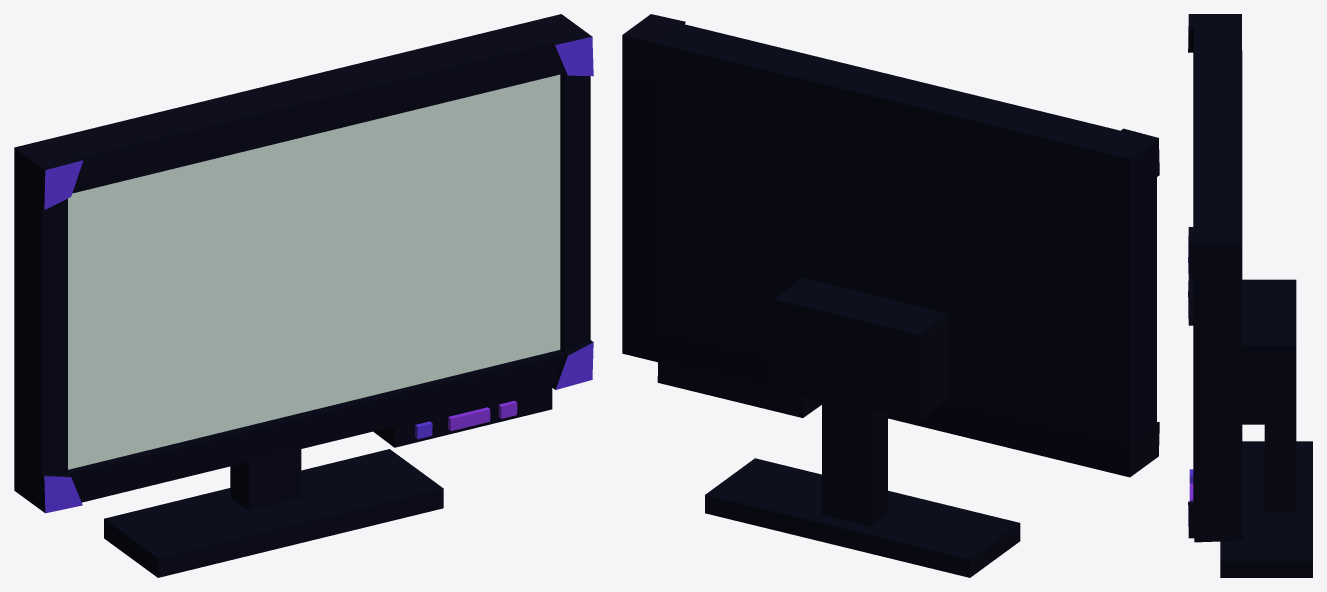
File: RivenRoom_Monitor01.fbx
The picture shows the model from 3 angles, left to right: view 1: azimuth 30°, elevation 25°; view 2: azimuth 150°, elevation 25°; view 3: azimuth 270°, elevation 25°; orthographic projection. The views are drawn at different scales.
Parts seen in each view (by area): view 1: Cube.115; view 2: Cube.115; view 3: Cube.115.
Part boxes in pixels (<box>): Cube.115: <box>14,14,593,577</box>; Cube.115: <box>622,14,1159,577</box>; Cube.115: <box>1188,14,1312,577</box>.
Bounding box in the file's own units: 97.07 × 76.64 × 22.23.
